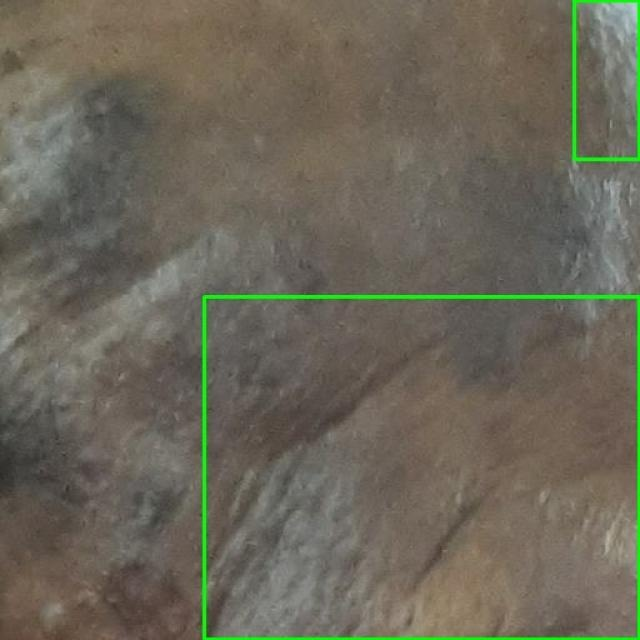Contact Dermatitis: (204, 296, 639, 639), (574, 0, 639, 159)
